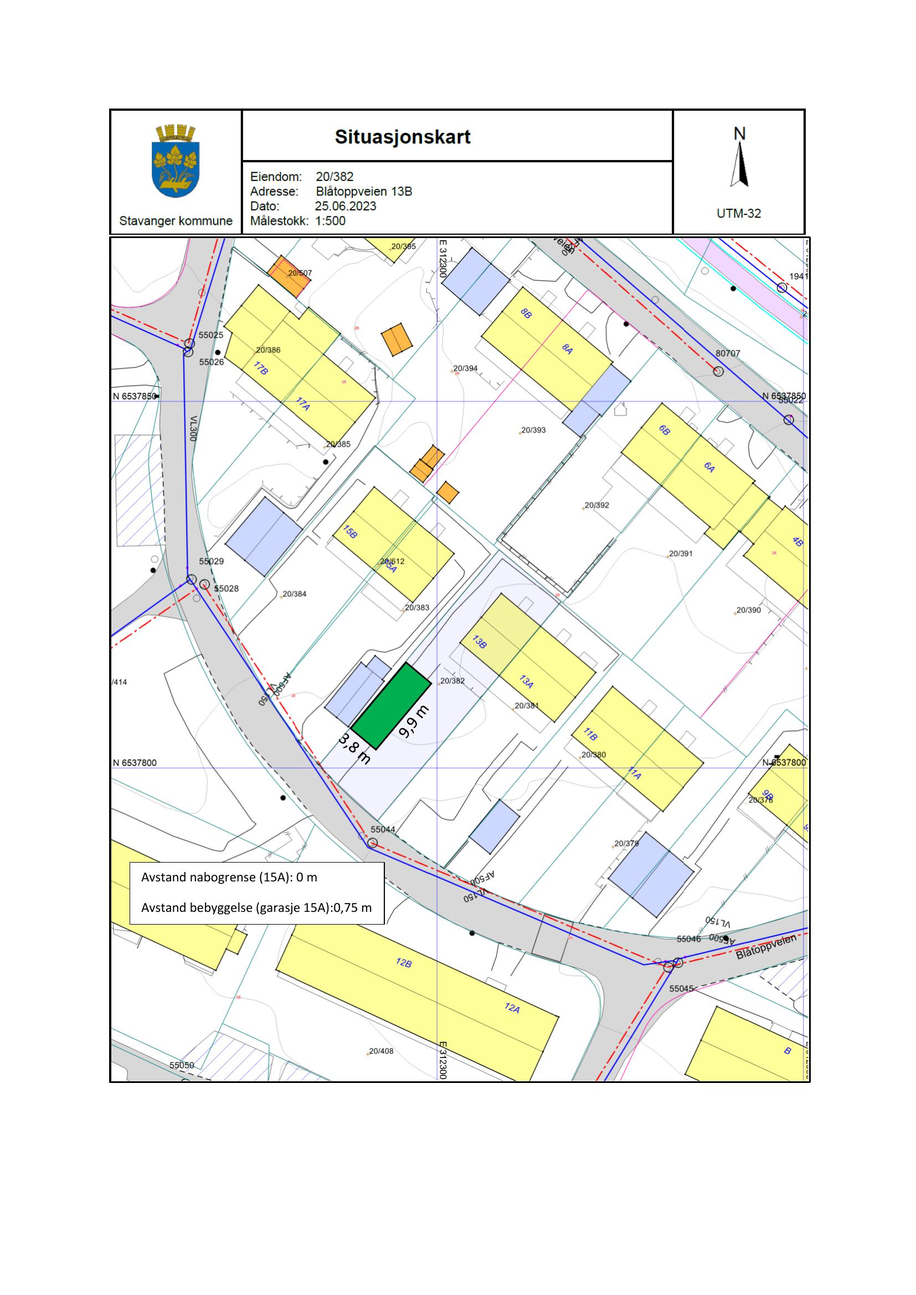situasjonskart: (110, 237, 811, 1081)
